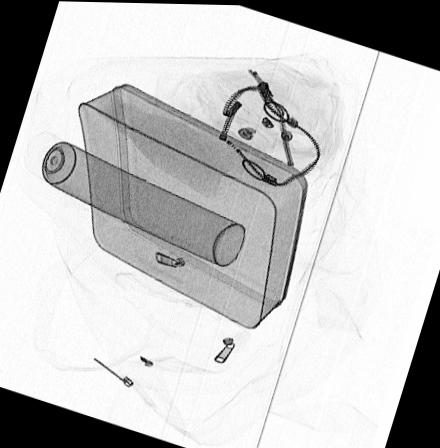Sprayer: (22, 129, 247, 265)
